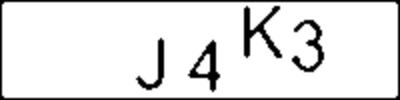3: (289, 16, 326, 73)
4: (187, 36, 221, 92)
J: (132, 35, 166, 90)
K: (239, 3, 287, 58)
